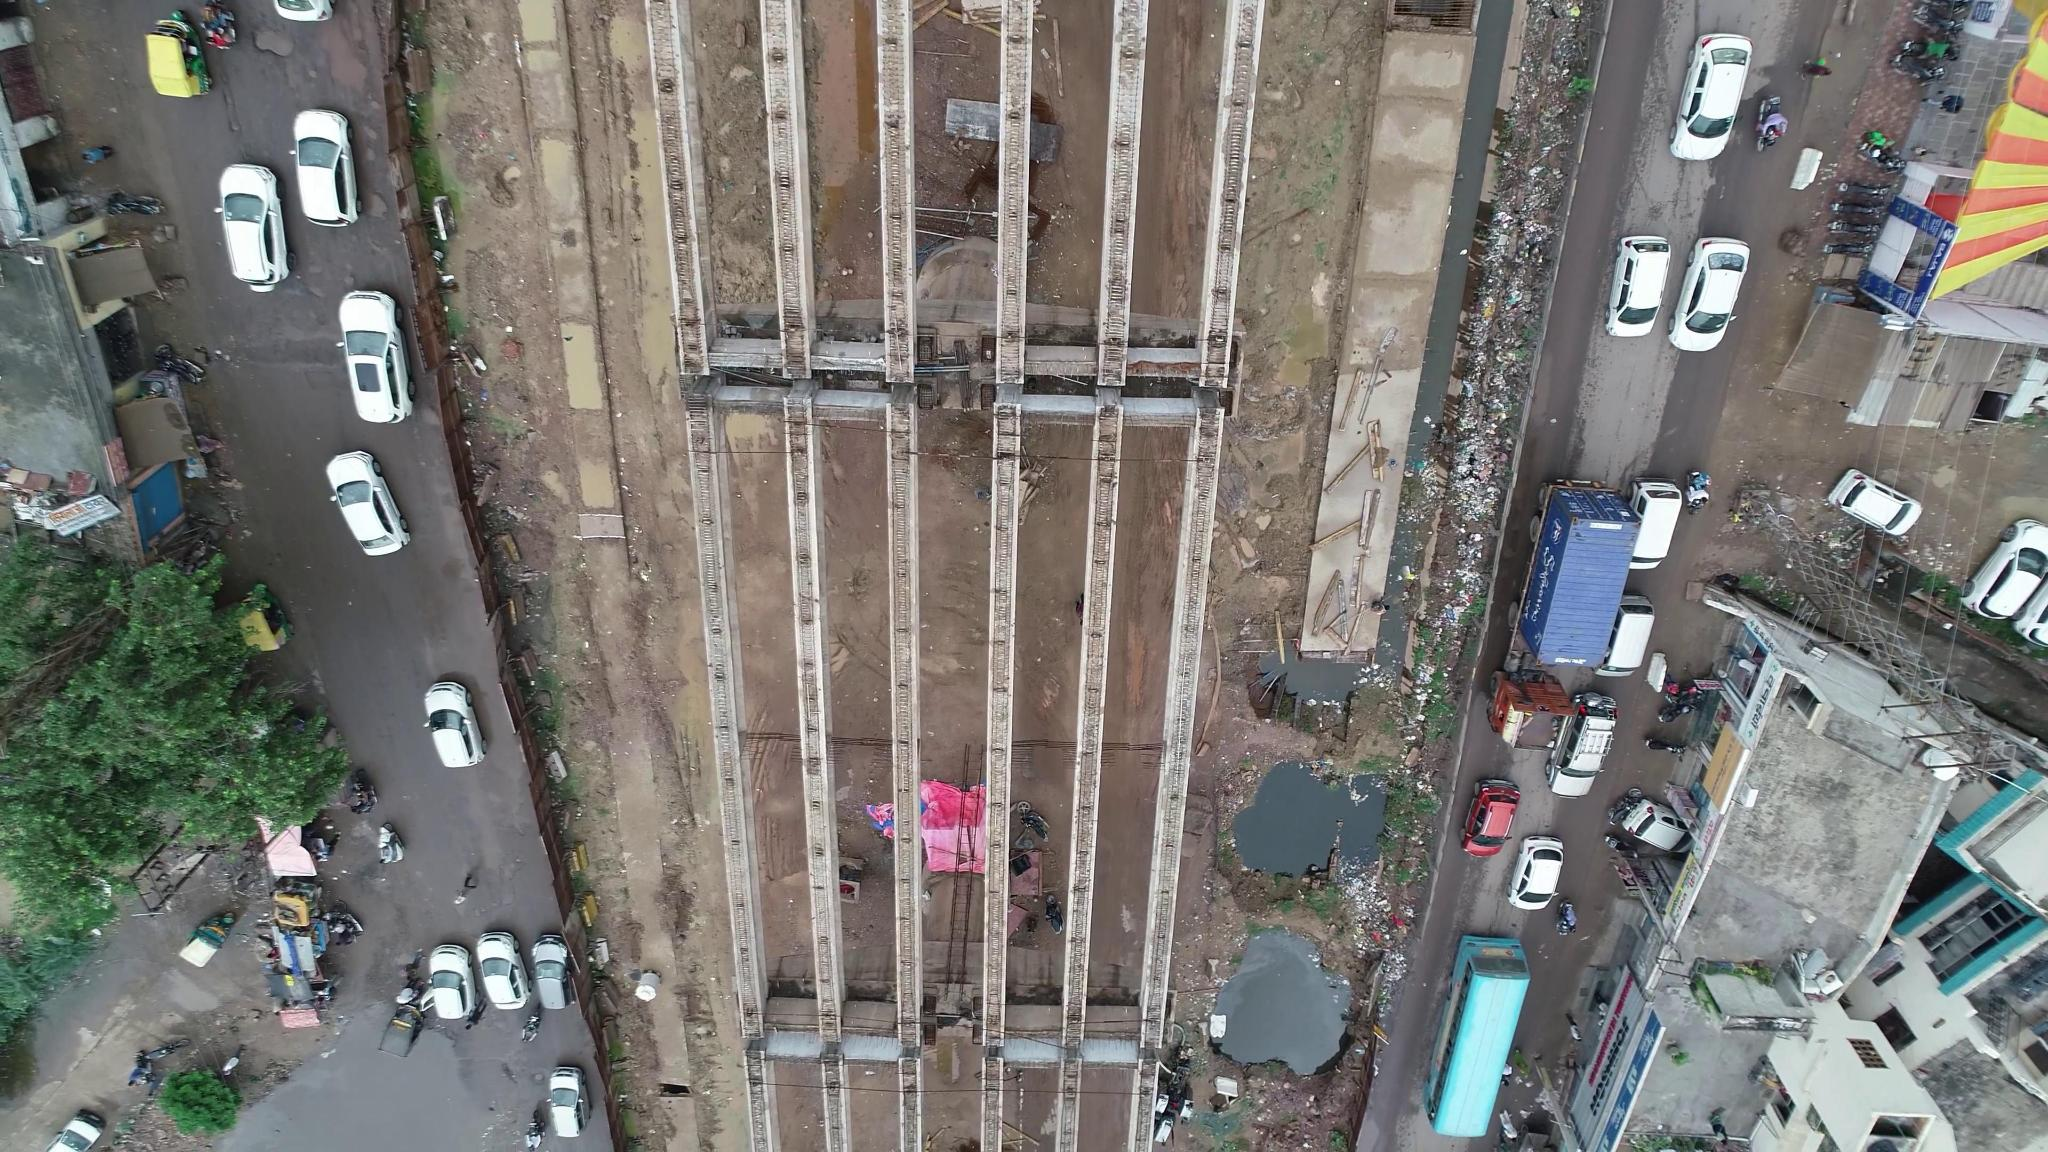Potholes: (300, 241, 383, 300), (252, 23, 319, 87)
